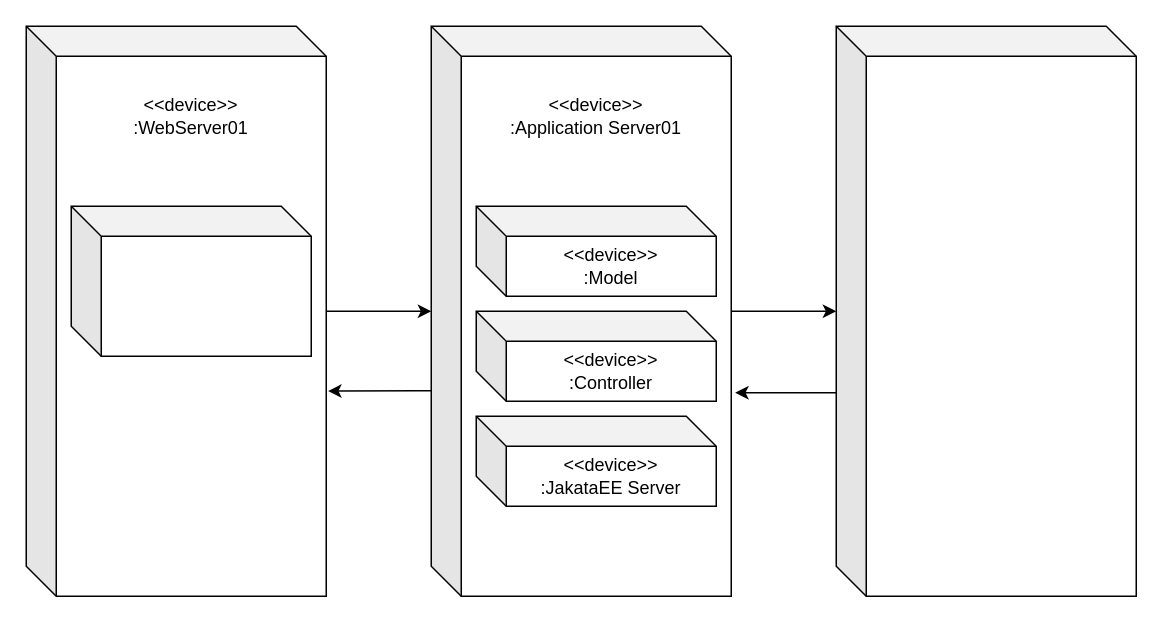
Some shapes in this 1163 by 623 pixel diagram are drawn without their labels. Here are the shapes that lost their labels. From the top down, the centre of each, then its label:
point (190, 280): <<device>> :View
point (985, 310): <<device>> :Database Server01
